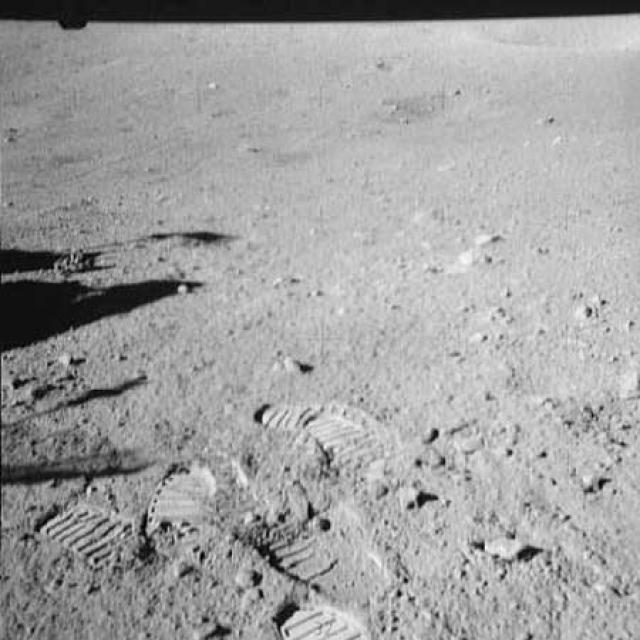crater: (456, 12, 640, 54), (377, 84, 476, 128)
